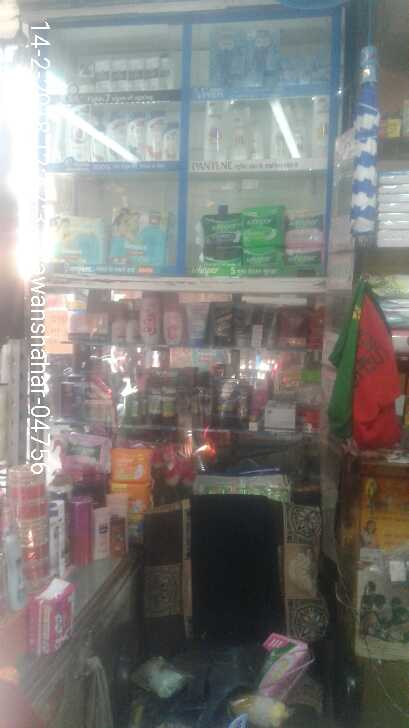venus: (243, 23, 274, 84), (213, 27, 242, 84)
